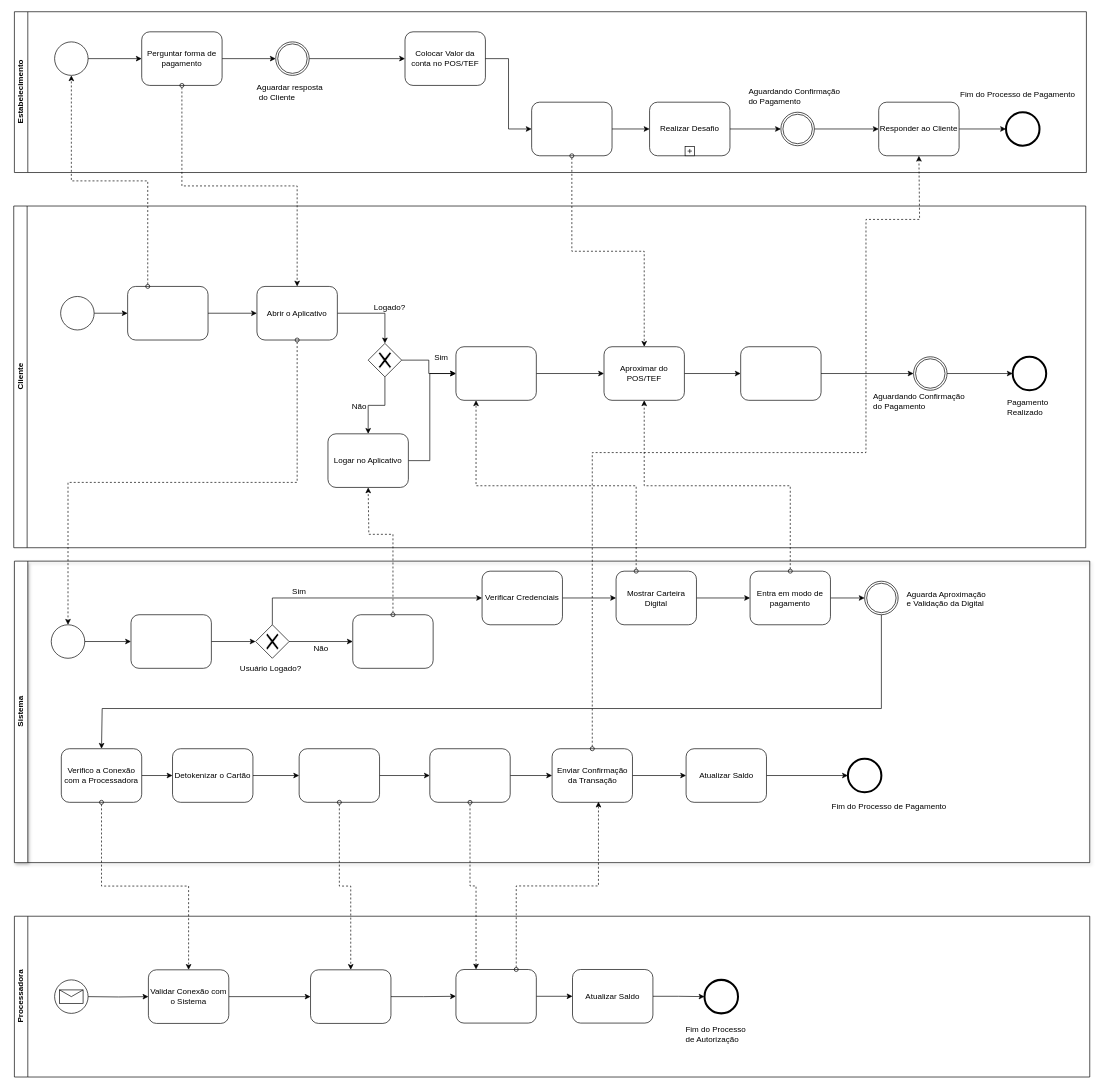
Some shapes in this 1106 by 1089 pixel diagram are drawn without their labels. Here are the shapes that lost their labels. From the top down, the centre of each, then its label:
At (571,129): "Disponibiliza o POS/TEF".
At (167,313): "Pagar a conta do Estabelecimento".
At (495,373): "Selecionar Cartões".
At (780,373): "Validar Digital".
At (170,641): "Verificar Login".
At (392,641): "Solicitar Login".
At (339,775): "Verificar o Saldo".
At (469,775): "Solicitar Transação".
At (350,996): "Validar Saldo".
At (495,996): "Realizar Transação".
